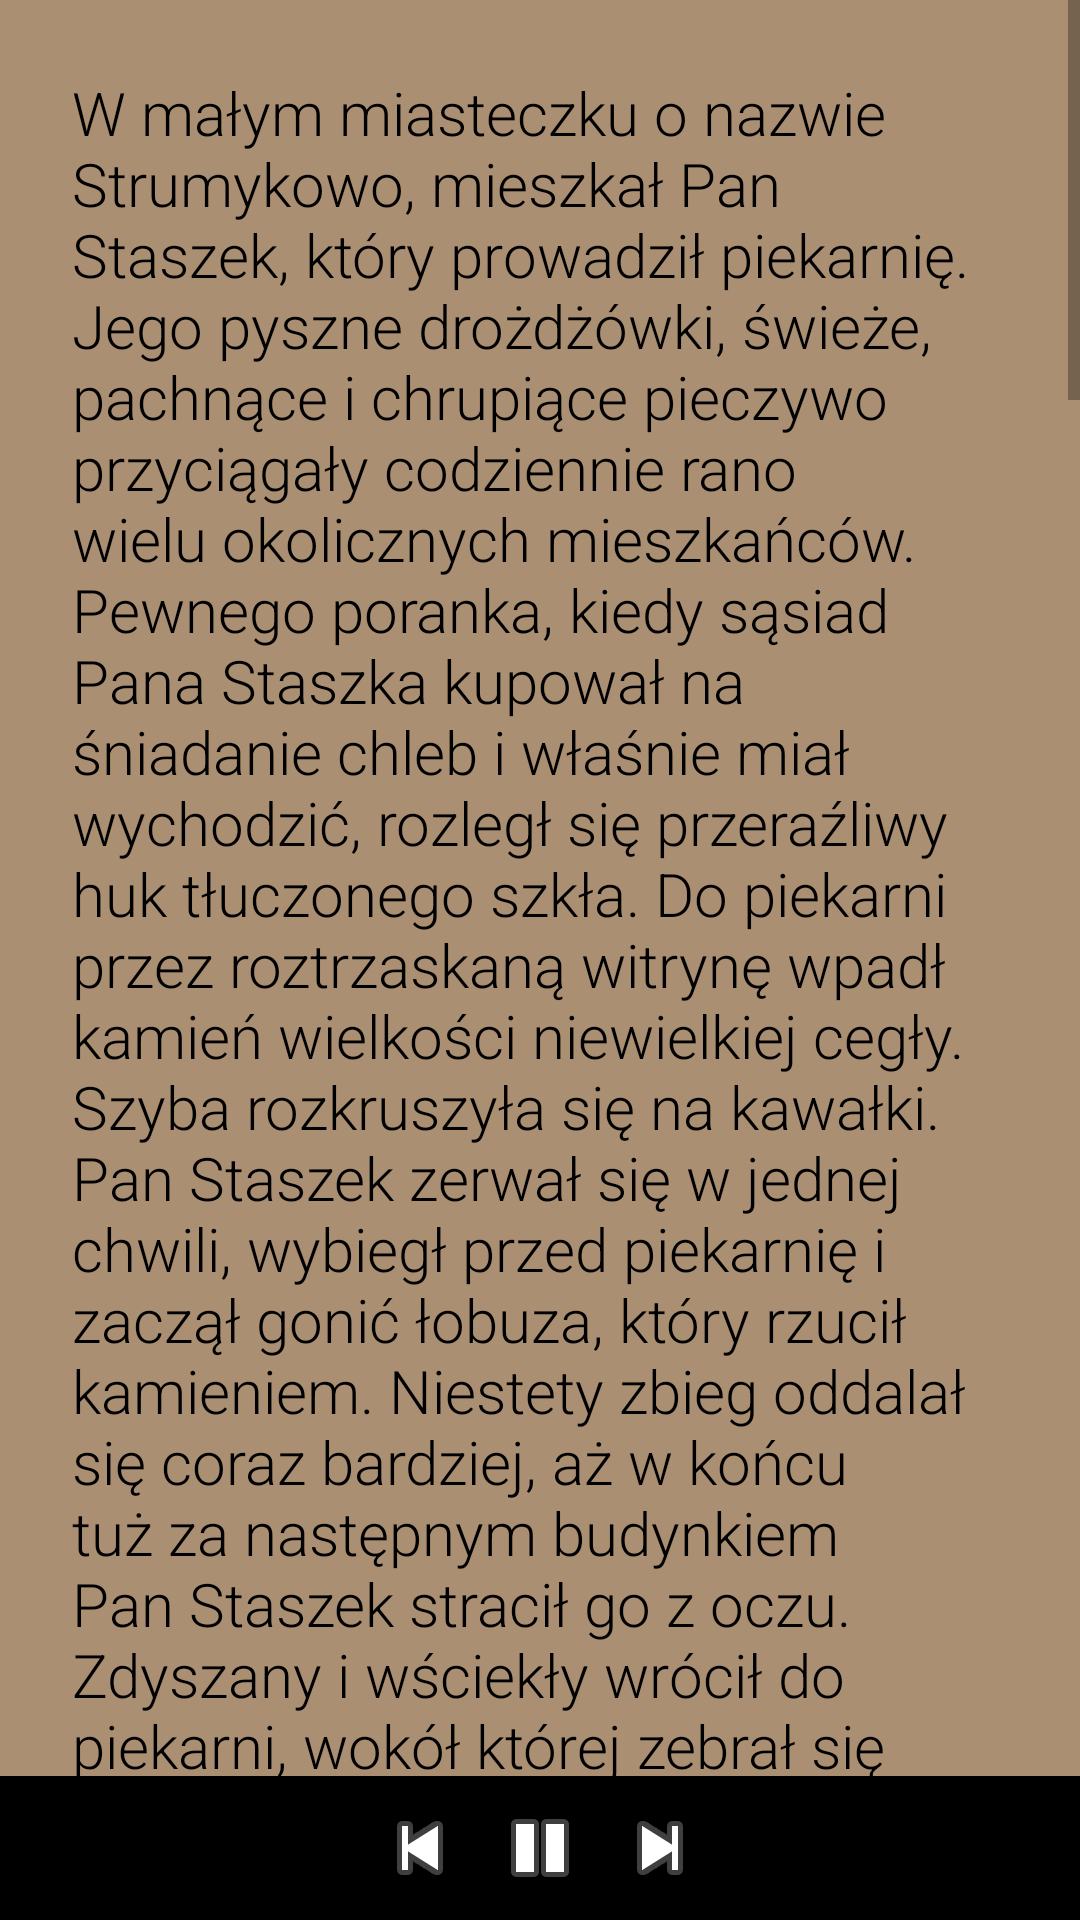

Screen size 1080×1920. Icon name, then its center in pixels as [x,y]:
next: [660,1848]
pause: [540,1848]
previous: [420,1848]
